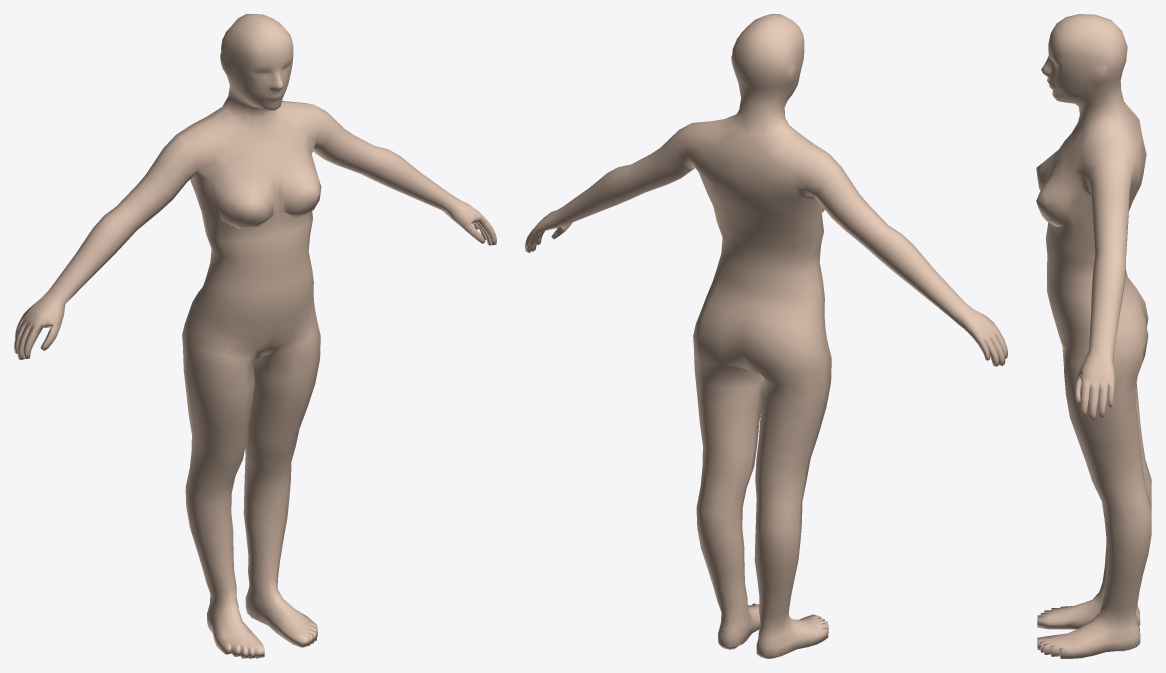
Rendered from SM_Body.fbx.
3 renders of one model, left to right at view 1: azimuth 30°, elevation 25°; view 2: azimuth 150°, elevation 25°; view 3: azimuth 270°, elevation 25°, orthographic.
Parts seen in each view (by area): view 1: woman; view 2: woman; view 3: woman.
Part boxes in pixels (x1,y1,x2,y2): woman: [14, 14, 496, 658]; woman: [525, 14, 1007, 658]; woman: [1036, 14, 1151, 658].
Bounding box in the file's own units: 1.38 × 1.73 × 0.2905.
